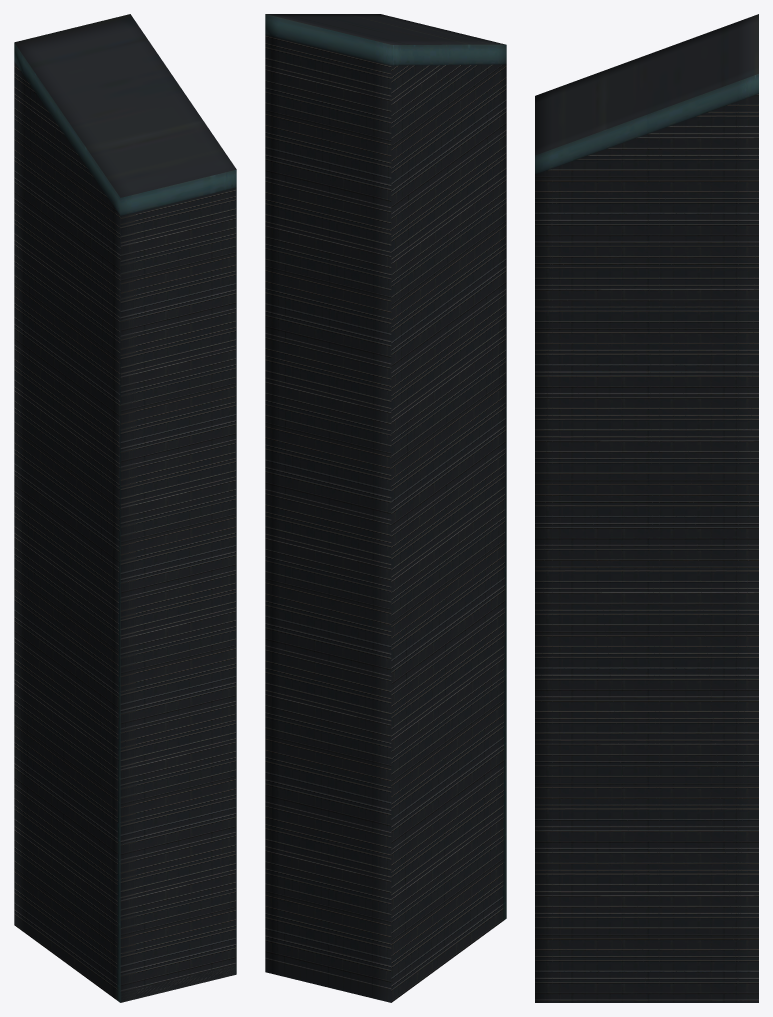
The model's file is 00_03_outside_building_b.dae.
3 views of the same model, side by side, from view 1: azimuth 30°, elevation 25°; view 2: azimuth 150°, elevation 25°; view 3: azimuth 270°, elevation 25° (orthographic). The views are drawn at different scales.
Visible parts, largest first — view 1: Bd-Pivot; view 2: Bd-Pivot; view 3: Bd-Pivot.
Boxes of the visible parts, <box> form: Bd-Pivot: <box>14,14,236,1002</box>; Bd-Pivot: <box>265,14,506,1002</box>; Bd-Pivot: <box>535,14,758,1002</box>.
Bounding box in the file's own units: 30.83 × 224 × 48.81.
